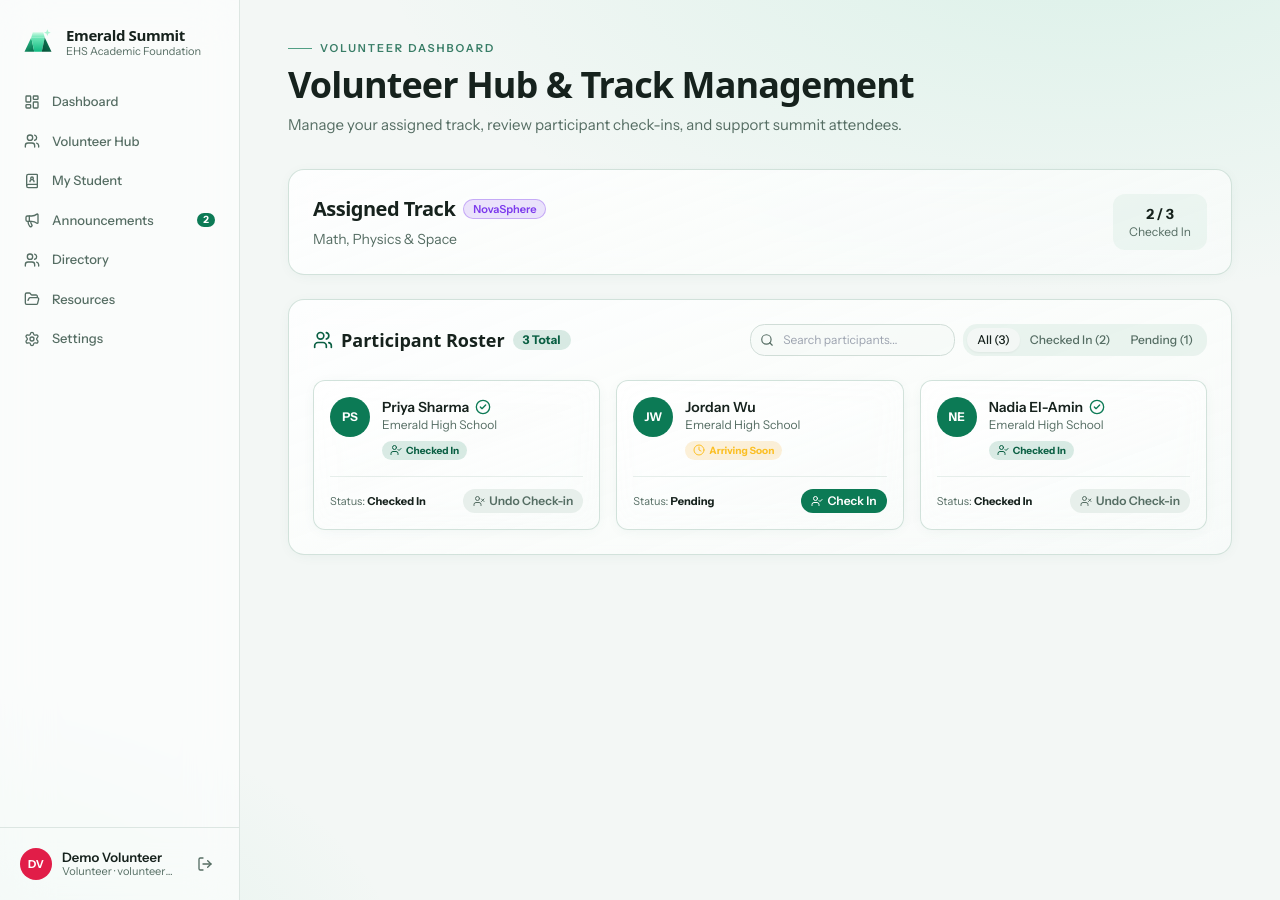
Test: VolunteerDashboard Component Suite › Tier 2: Boundary & Corner Cases › filters participant list when typing into search input
Type "Priya" into the field with placeholder "Search participants..." at point(853, 340), box [750,324,955,356]
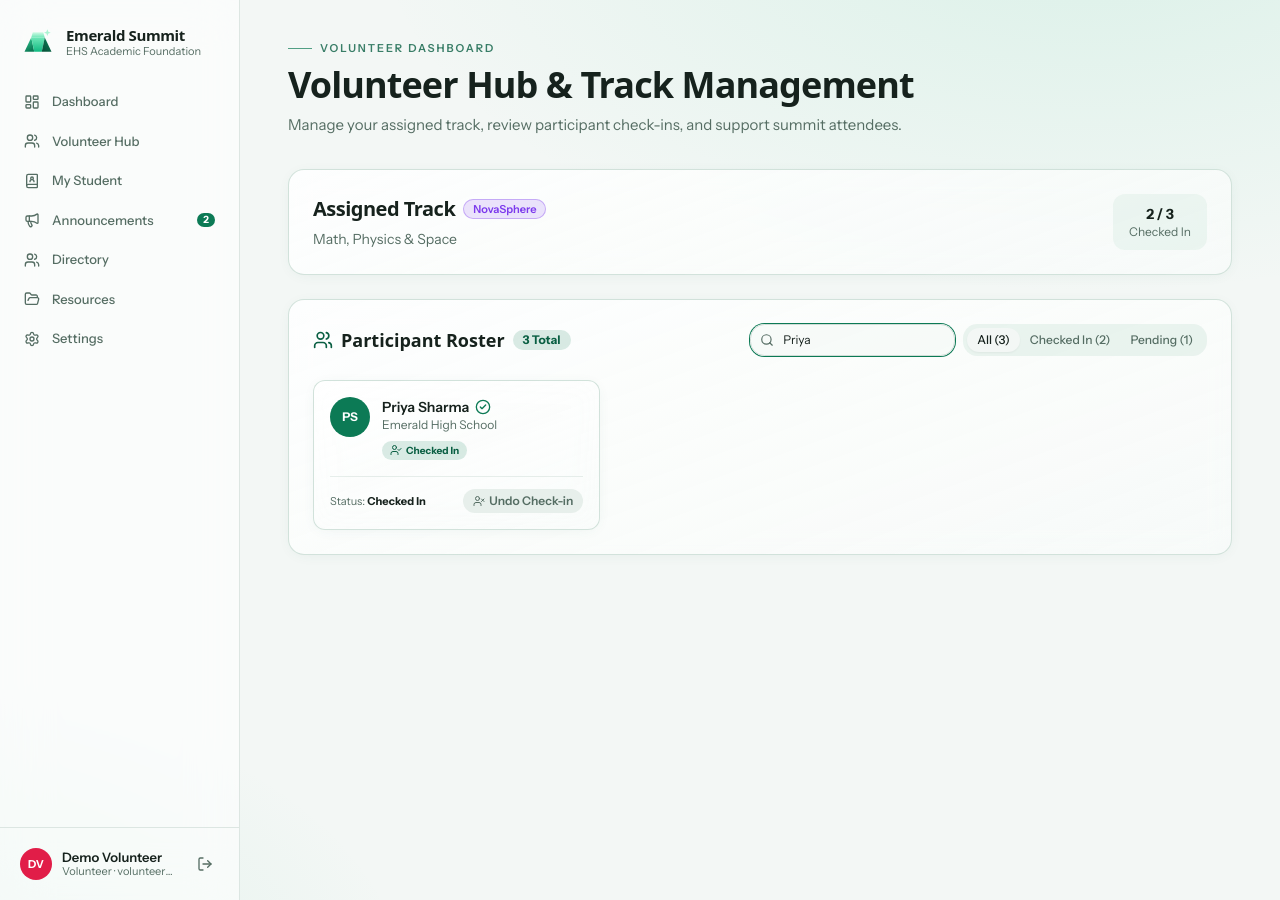
Expected: the text "Priya Sharma" is shown, [382,397,469,417]
Expected: the text "Jordan Wu" is gone
Replace the text in the field with placeholder "Search participants..." with "NonExistentParticipantXYZ" at point(853, 340), box [750,324,955,356]
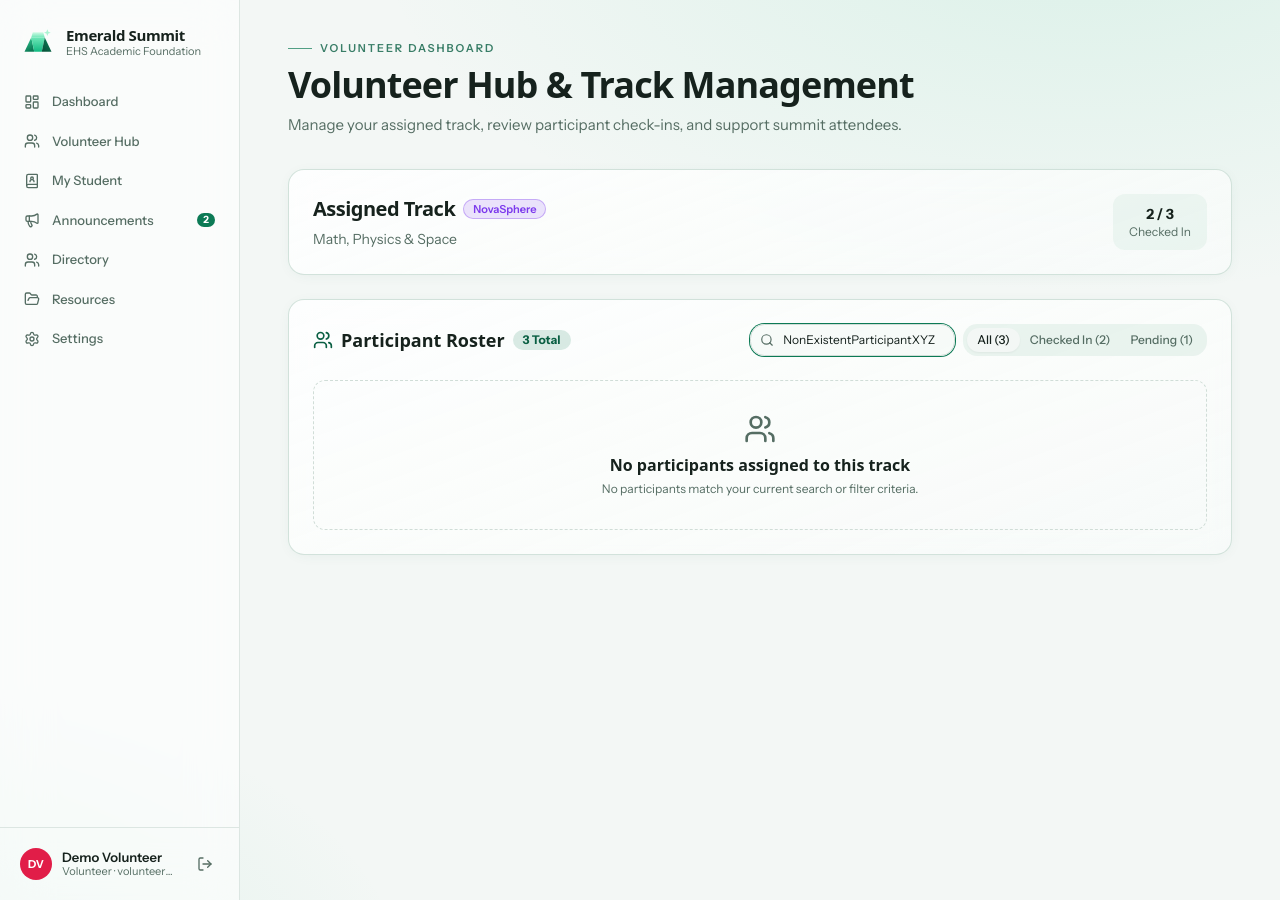
Expected: the text "No participants match your current search or filter criteria." is shown, [602,481,918,496]
